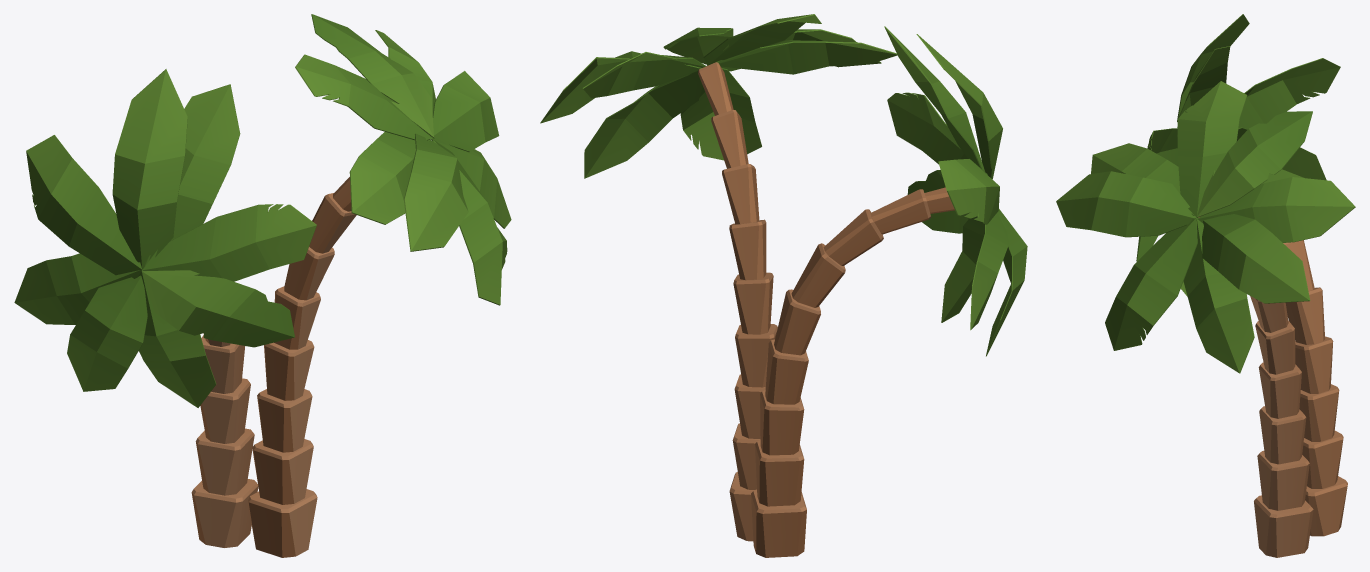
Rendered from 2Stad.fbx.
3 views of the same model, side by side, from view 1: azimuth 30°, elevation 25°; view 2: azimuth 150°, elevation 25°; view 3: azimuth 270°, elevation 25° (orthographic). The views are drawn at different scales.
Visible parts, largest first — view 1: Cube.007; view 2: Cube.007; view 3: Cube.007.
Boxes of the visible parts, x1=… form: Cube.007: x1=14, y1=14, x2=511, y2=557; Cube.007: x1=540, y1=14, x2=1027, y2=557; Cube.007: x1=1056, y1=14, x2=1355, y2=557.
Bounding box in the file's own units: 211 × 235 × 135.
